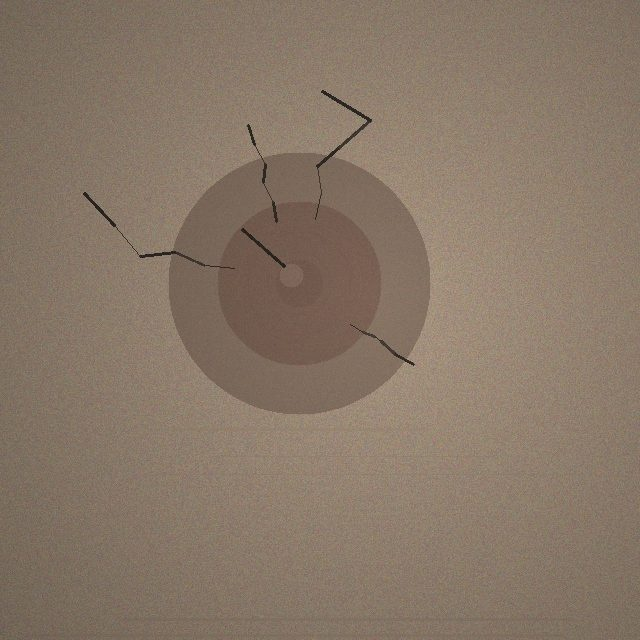crack: (168, 152, 430, 414)
